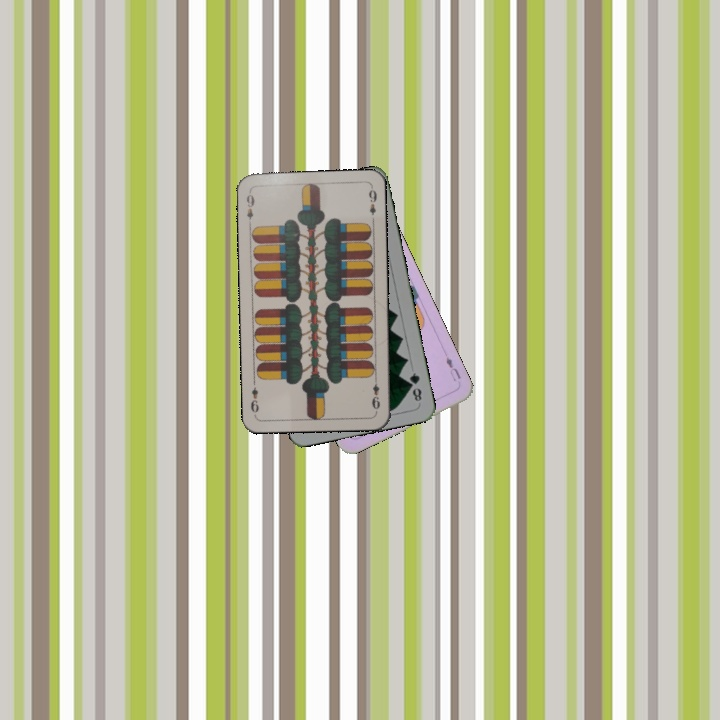E9: (368, 373, 383, 414), (242, 188, 257, 228)
EU: (442, 353, 463, 384)
G8: (405, 369, 424, 406)
